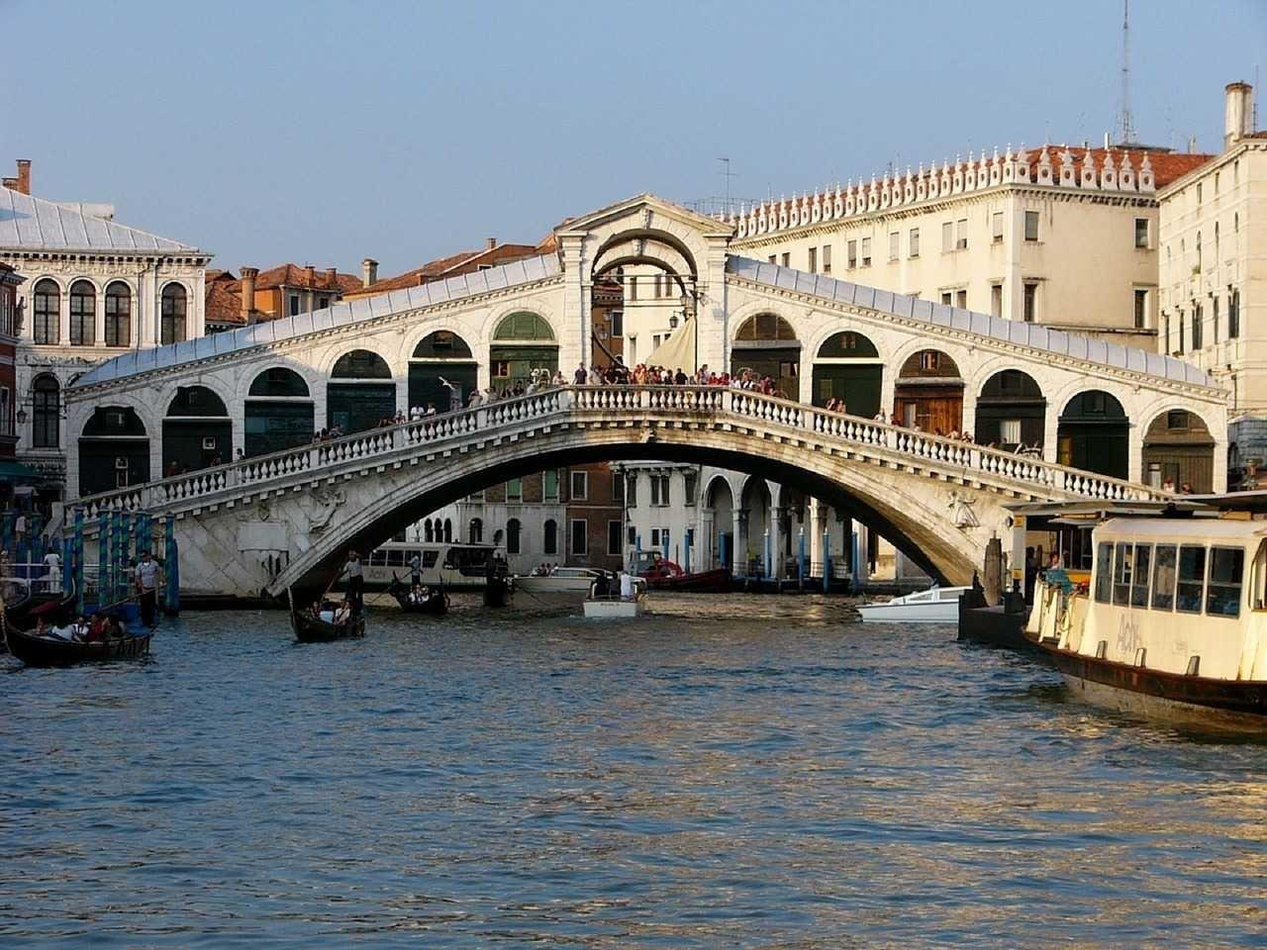kayak: (1014, 500, 1265, 738), (366, 540, 515, 608), (2, 617, 153, 667), (855, 584, 969, 624), (290, 599, 365, 644), (388, 582, 448, 617)
